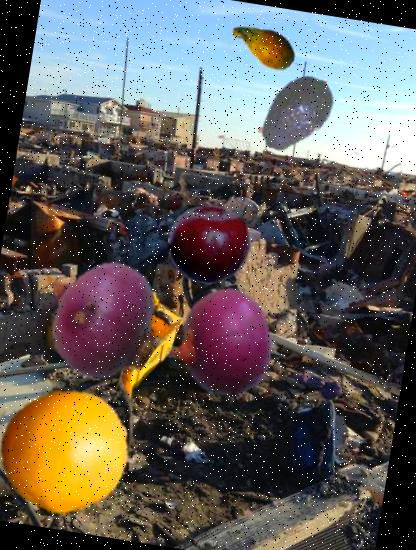Avocado: (246, 62, 347, 163)
Cactus: (225, 5, 304, 84)
Grapefruit: (0, 376, 139, 525)
Onion: (159, 271, 301, 413), (32, 247, 174, 389)
Plum: (162, 197, 258, 293)
